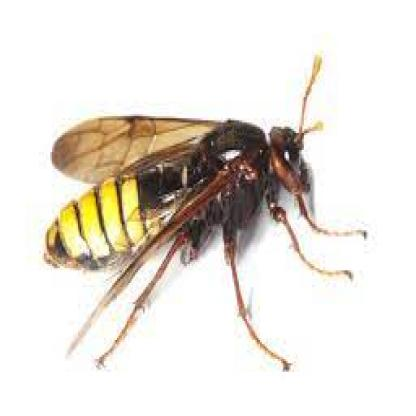sawfly: (42, 57, 371, 374)
